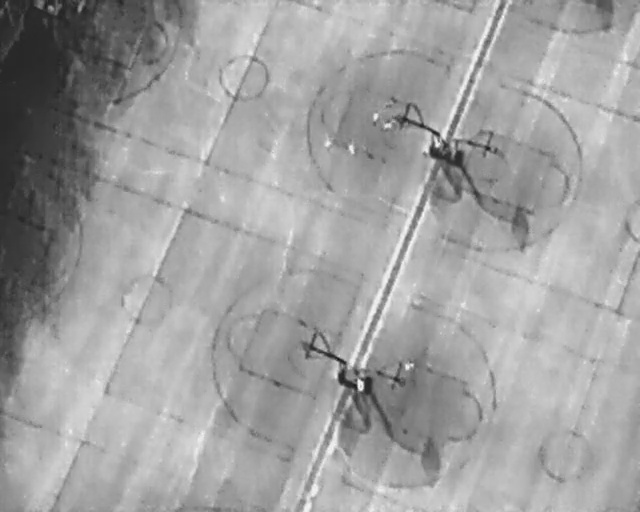Person: (405, 358, 416, 372), (347, 140, 355, 157), (383, 118, 392, 133), (324, 137, 332, 153), (357, 376, 365, 392), (371, 111, 379, 125)
